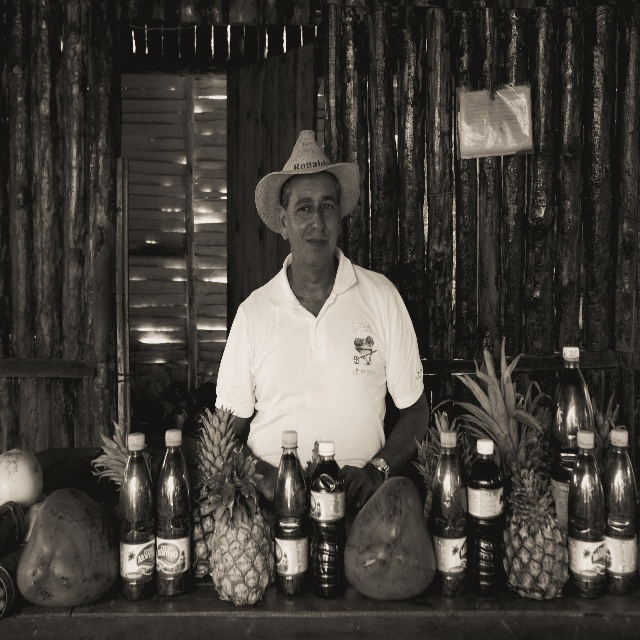Sin_guantes: (342, 463, 380, 509), (263, 465, 279, 503)
